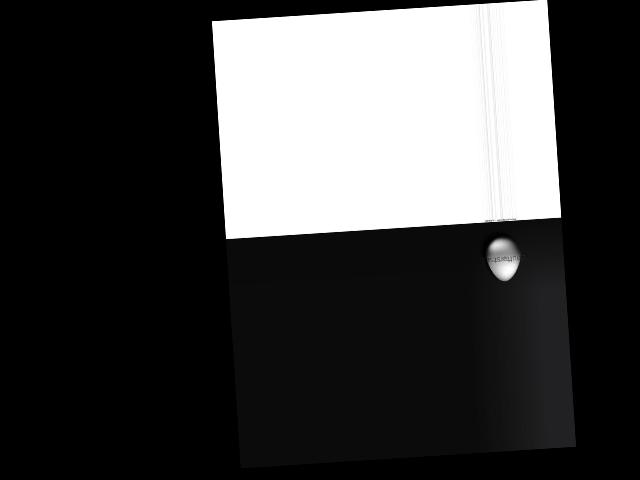egg: (484, 235, 522, 282)
